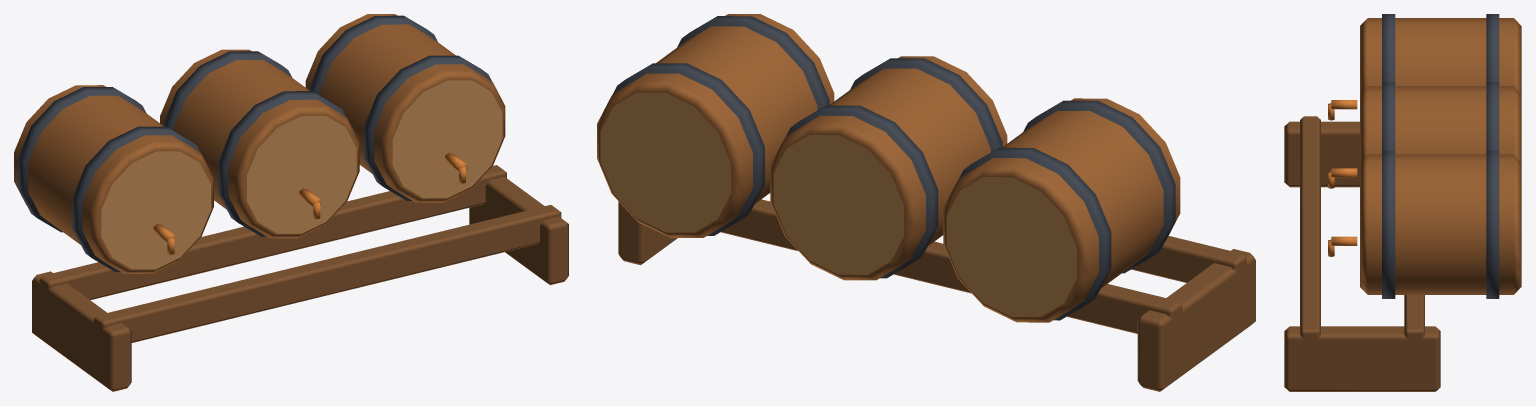
The model's file is keg_rack.glb.
3 renders of one model, left to right at view 1: azimuth 30°, elevation 25°; view 2: azimuth 150°, elevation 25°; view 3: azimuth 270°, elevation 25°, orthographic. The views are drawn at different scales.
Visible parts, largest first — view 1: keg_rack; view 2: keg_rack; view 3: keg_rack.
Part boxes in pixels (x1,y1,x2,y2): keg_rack: (14,14,568,391); keg_rack: (597,14,1255,391); keg_rack: (1284,14,1521,391).
Size of the model in its own units: 1.96 by 0.835 by 0.91.
